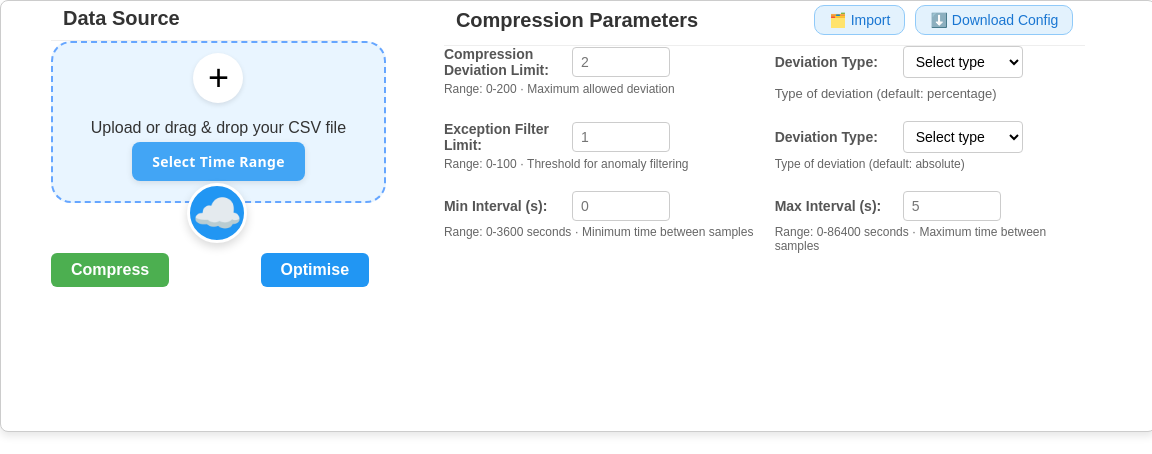
Test case: ConfigPanel Component Tests › opens time range modal when button clicked
Click the button "Select Time Range". click: [218, 162]
box: [132,142,305,181]
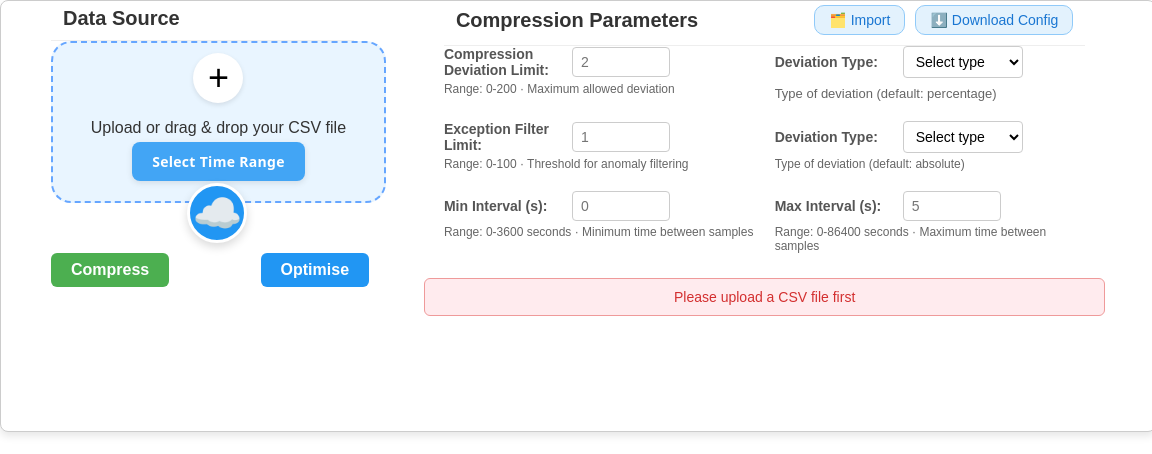
Now the text "Please upload a CSV file first" is shown, box [424,278,1105,316]
